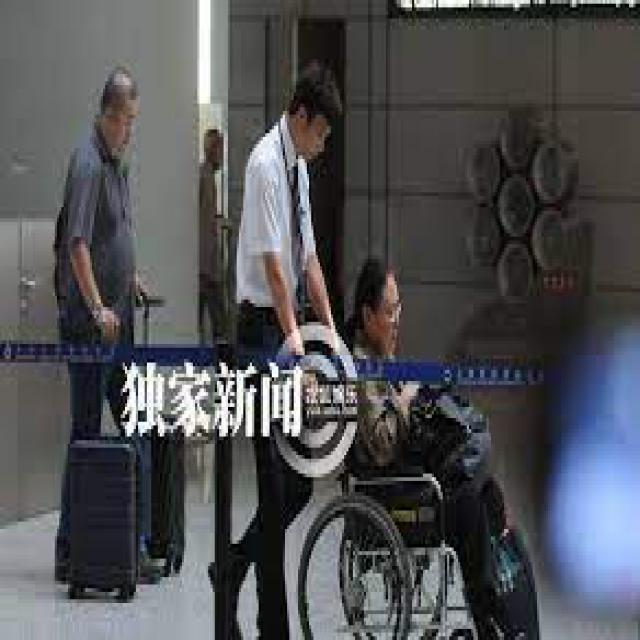wheelchairs: (306, 355, 486, 636)
